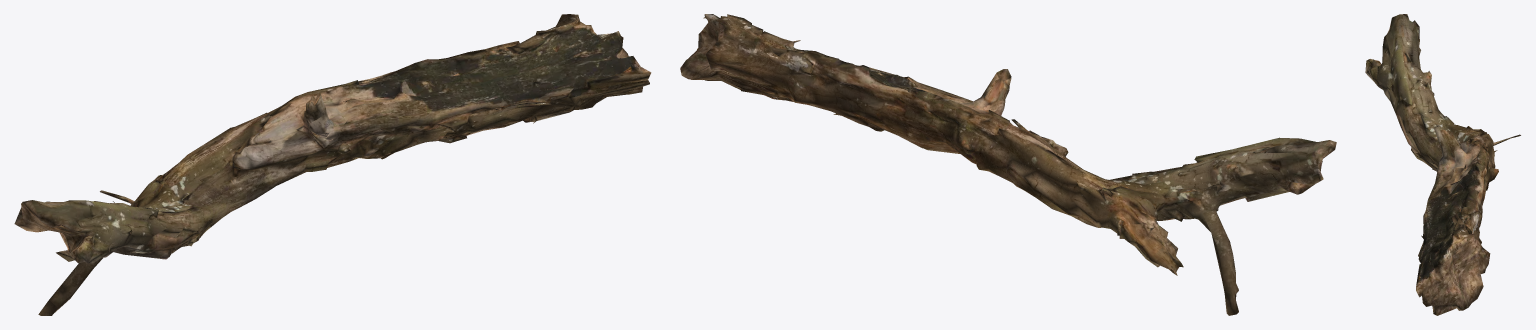
File: dead_tree_trunk_02_1k_lo.glb
The picture shows the model from 3 angles, left to right: view 1: azimuth 30°, elevation 25°; view 2: azimuth 150°, elevation 25°; view 3: azimuth 270°, elevation 25°; orthographic projection. The views are drawn at different scales.
Parts seen in each view (by area): view 1: dead_tree_trunk_02; view 2: dead_tree_trunk_02; view 3: dead_tree_trunk_02.
Boxes of the visible parts, x1=… form: dead_tree_trunk_02: x1=14, y1=14, x2=651, y2=315; dead_tree_trunk_02: x1=680, y1=14, x2=1336, y2=315; dead_tree_trunk_02: x1=1365, y1=14, x2=1520, y2=315.
Bounding box in the file's own units: 4.05 × 1.05 × 1.05.
1 material, 1 textured.
